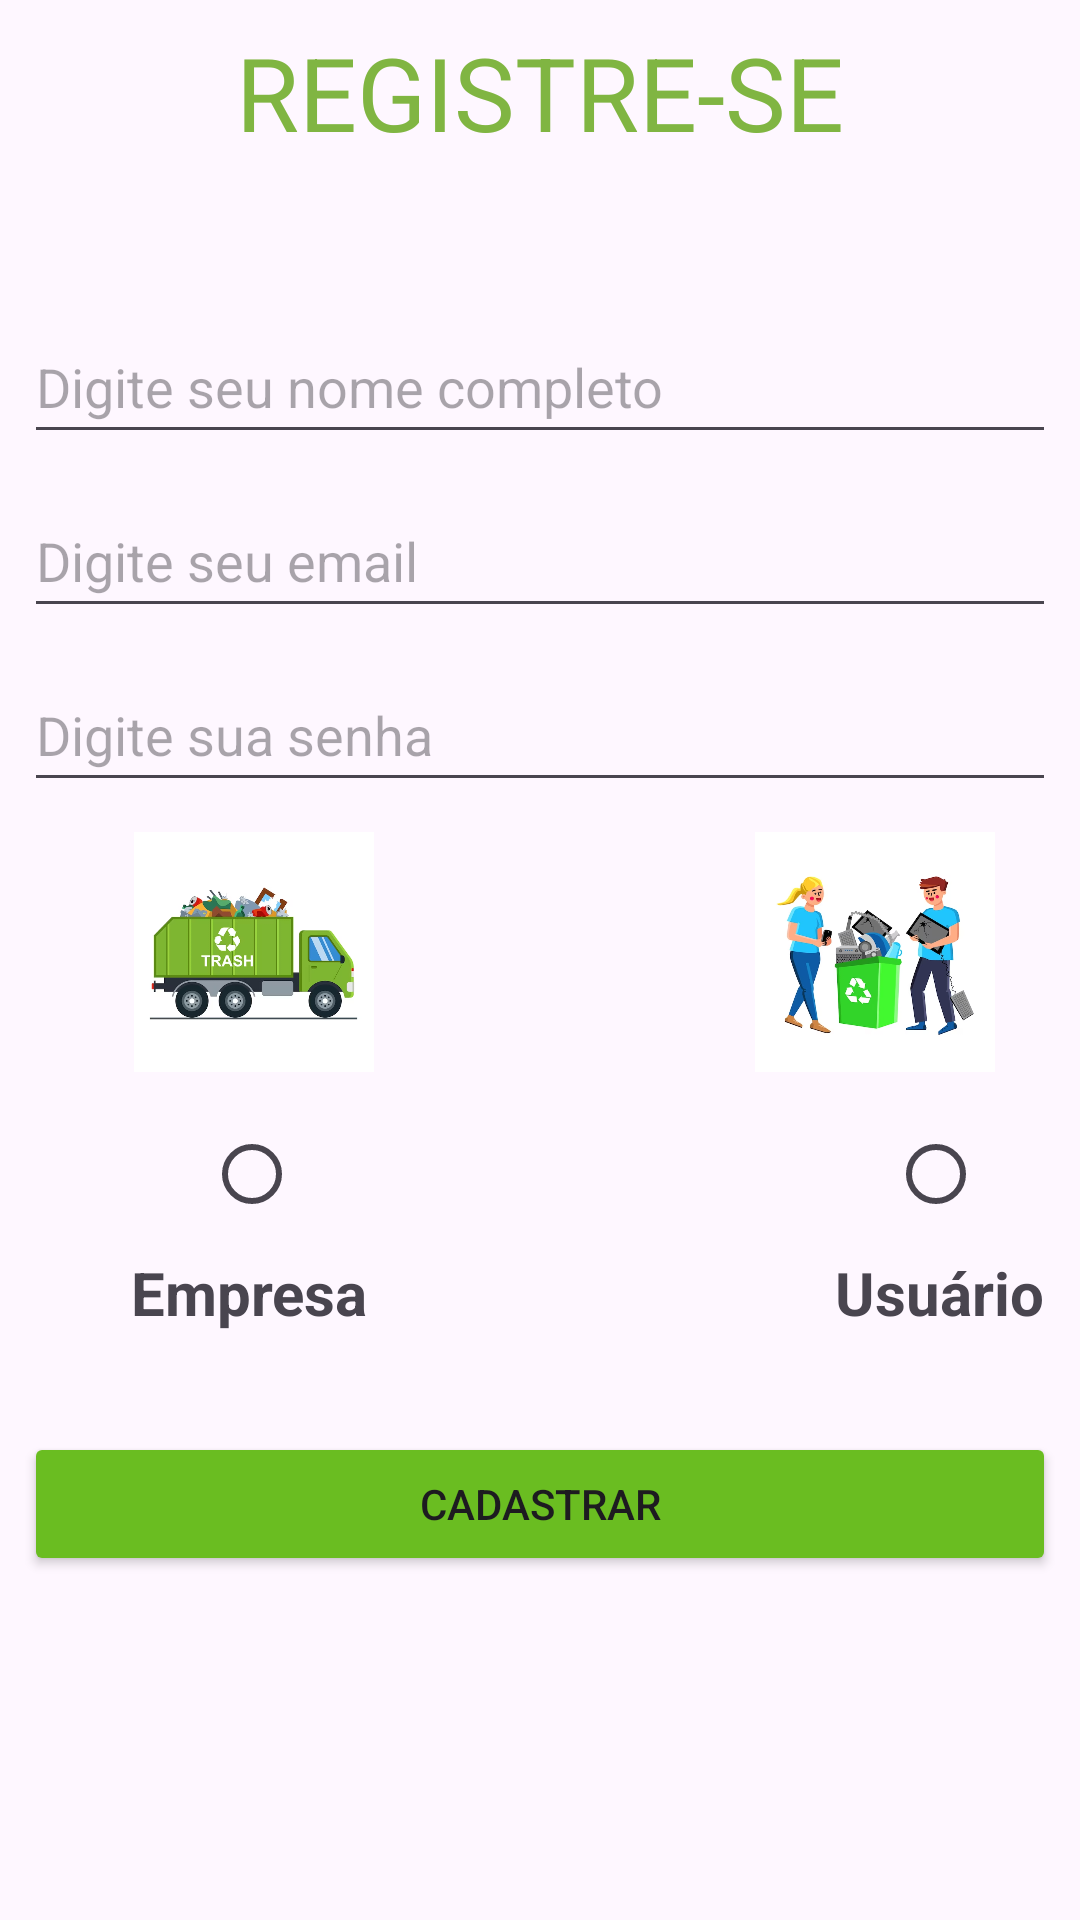

Icons on this 1080 x 1920 Android screen, each with the point to tap as point (x, y):
caminhao coleta: point (253, 953)
pessoa reciclando: point (875, 955)
